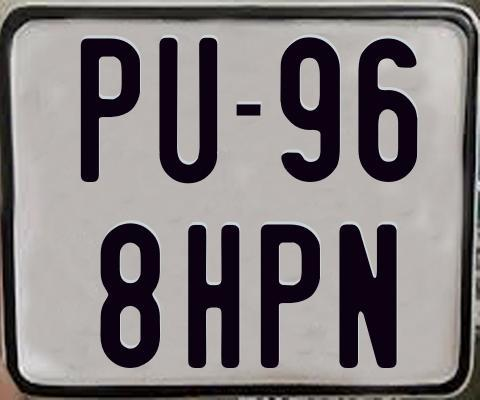6: (355, 36, 415, 183)
8: (99, 223, 161, 370)
9: (277, 34, 338, 179)
H: (188, 224, 240, 368)
N: (338, 221, 398, 366)
P: (81, 35, 144, 185), (261, 223, 322, 369)
U: (156, 36, 218, 185)
